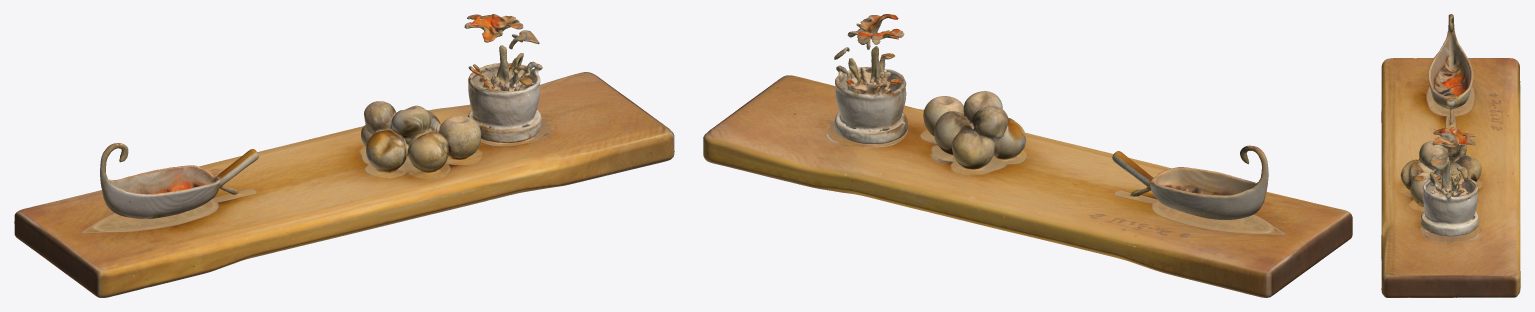
File: Meshy_AI_Wooden_Shelf_Still_Li_0210085645_texture.glb
3 views of the same model, side by side, from view 1: azimuth 30°, elevation 25°; view 2: azimuth 150°, elevation 25°; view 3: azimuth 270°, elevation 25° (orthographic). The views are drawn at different scales.
Bounding box in the file's own units: 2 × 0.4965 × 0.5339.
1 material, 1 textured.
